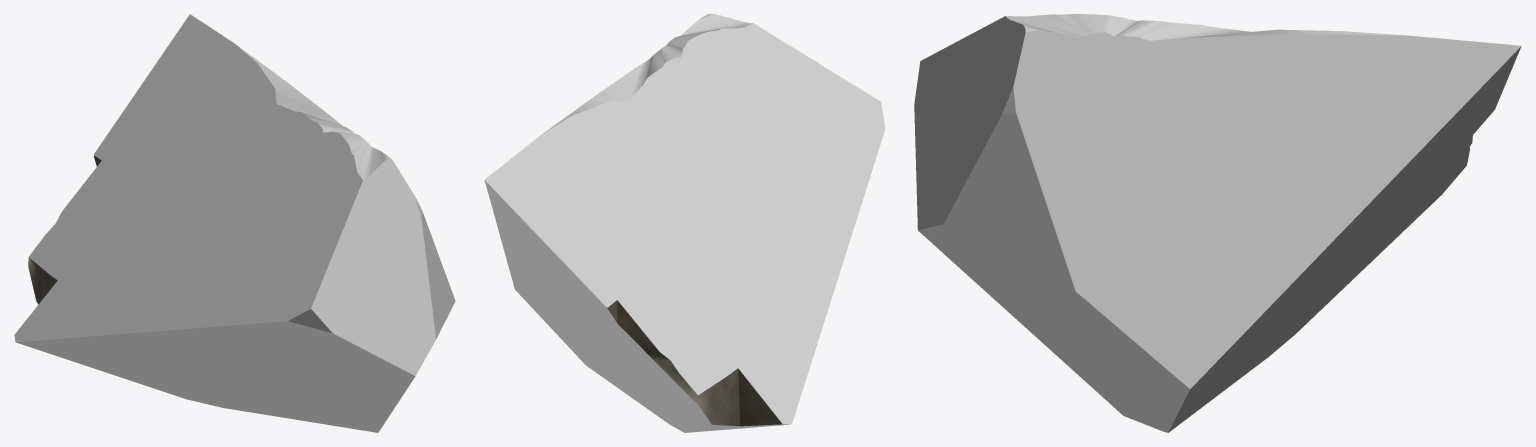
File: ColumnDamage08_33.fbx
3 renders of one model, left to right at view 1: azimuth 30°, elevation 25°; view 2: azimuth 150°, elevation 25°; view 3: azimuth 270°, elevation 25°, orthographic. The views are drawn at different scales.
Visible parts, largest first — view 1: ColumnDamage08_DM.033; view 2: ColumnDamage08_DM.033; view 3: ColumnDamage08_DM.033.
Boxes of the visible parts, <box> form: ColumnDamage08_DM.033: <box>14,14,455,432</box>; ColumnDamage08_DM.033: <box>484,14,885,432</box>; ColumnDamage08_DM.033: <box>914,14,1521,432</box>.
Bounding box in the file's own units: 173 × 151 × 221.
